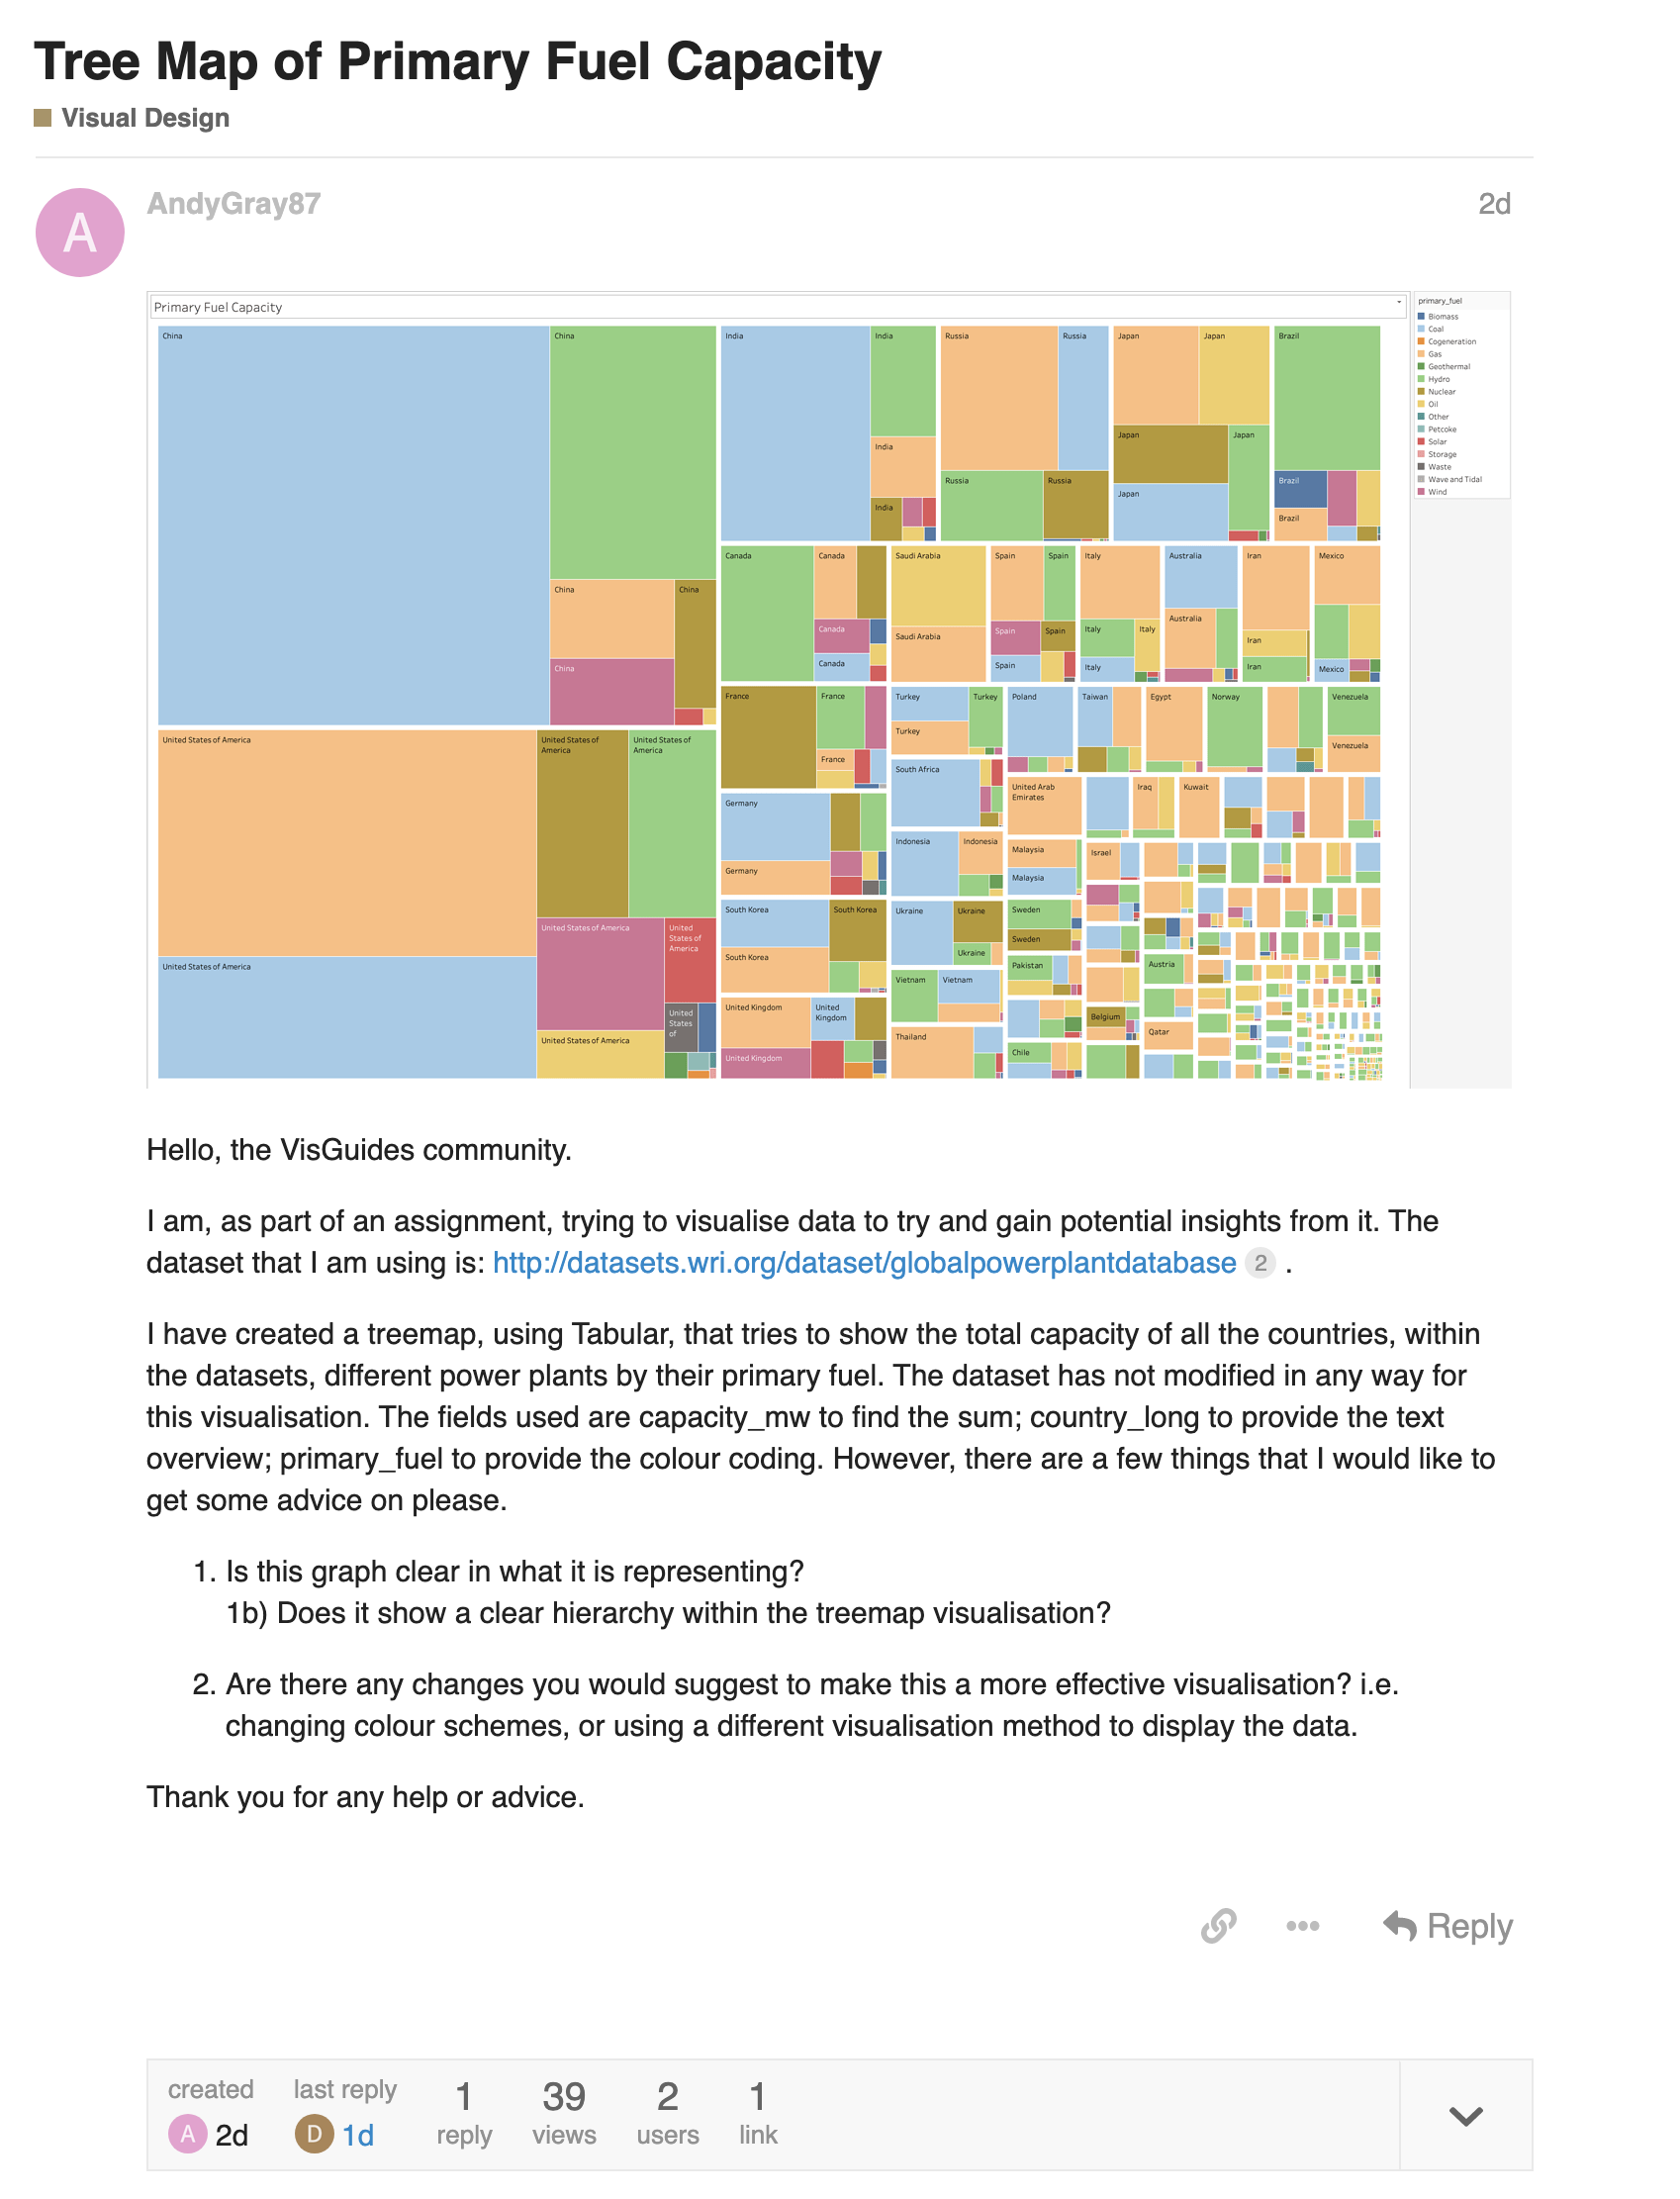

The page's visual inventory and layout, read from the dashboard file:
{"tool":"tableau","page":{"name":"Dashboard 1","canvas":[1000,800],"ordinal":0},"visuals":[{"type":"worksheet","title":"Sheet 3","mark":"Automatic","box":[8,8,824,392]},{"type":"legend","title":"Sheet 3","param":"[federated.1jh35lo12rckte1b9hq731qftkwm].[avg:estimated_generation_gwh:qk]","box":[832,8,160,65]},{"type":"legend","title":"Sheet 2","param":"[federated.1jh35lo12rckte1b9hq731qftkwm].[none:primary_fuel:nk]","box":[832,73,160,326]},{"type":"worksheet","title":"Sheet 2","mark":"Automatic","box":[8,400,824,392]}]}

Visuals, with their boxes on the page's 1000x800 design canvas (x1, y1, x2, y2). These are canvas units, not pixel positions in the 1680x2199 screenshot, which may show the page scaled, cropped or inside an application window:
"Sheet 3" worksheet: l=8, t=8, r=832, b=400
"Sheet 3" legend: l=832, t=8, r=992, b=73
"Sheet 2" legend: l=832, t=73, r=992, b=399
"Sheet 2" worksheet: l=8, t=400, r=832, b=792
